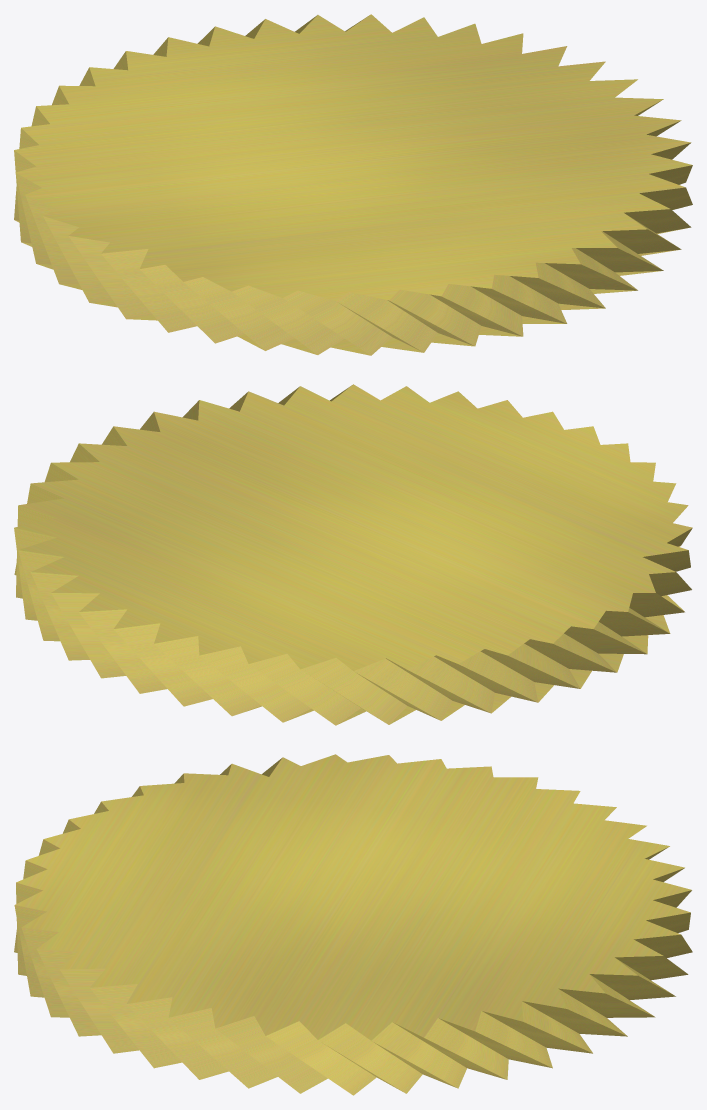
Rendered from ClockStraightSpiralOpp040.fbx.
3 renders of one model, top to bottom at view 1: azimuth 30°, elevation 25°; view 2: azimuth 150°, elevation 25°; view 3: azimuth 270°, elevation 25°, orthographic.
Parts seen in each view (by area): view 1: ClockStraightSpiralOpp040; view 2: ClockStraightSpiralOpp040; view 3: ClockStraightSpiralOpp040.
Boxes of the visible parts, <box> form: ClockStraightSpiralOpp040: <box>14,14,692,355</box>; ClockStraightSpiralOpp040: <box>14,384,692,725</box>; ClockStraightSpiralOpp040: <box>14,754,692,1095</box>.
Bounding box in the file's own units: 221 × 19.69 × 221.
